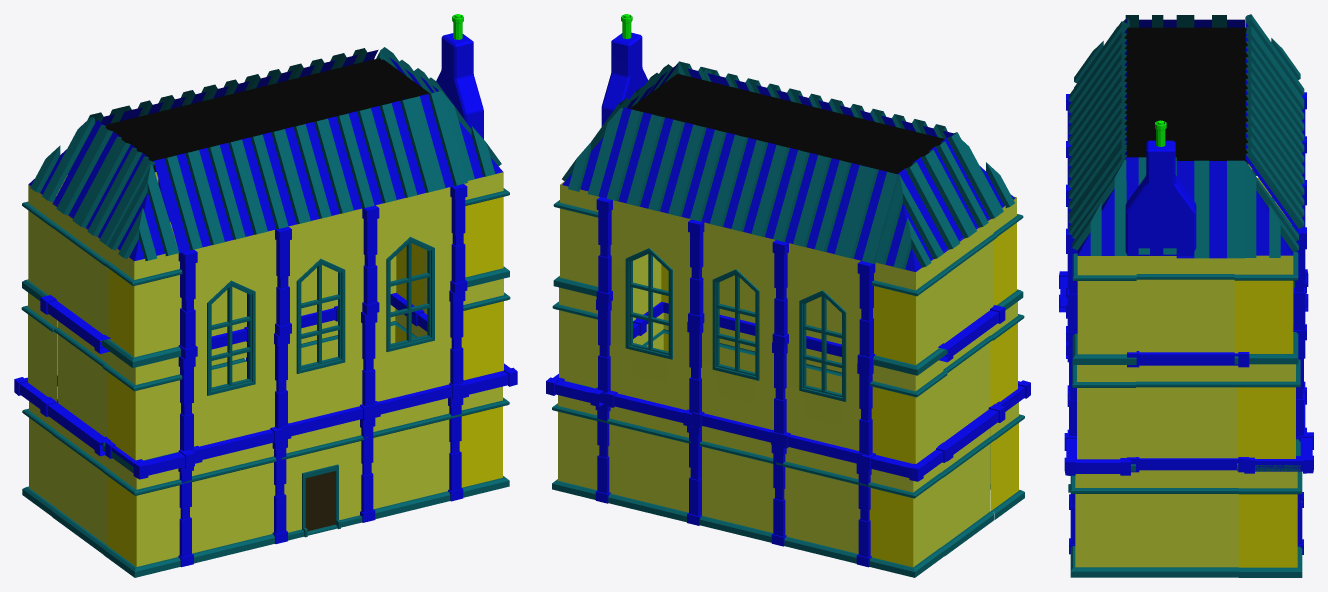
Rendered from Building_1_Marsh_Jeremy.fbx.
The picture shows the model from 3 angles, left to right: view 1: azimuth 30°, elevation 25°; view 2: azimuth 150°, elevation 25°; view 3: azimuth 270°, elevation 25°; orthographic projection. The views are drawn at different scales.
Parts seen in each view (by area): view 1: pasted__wall_ground_15; view 2: pasted__wall_ground_15; view 3: pasted__wall_ground_15.
Part boxes in pixels (x1,y1,x2,y2): pasted__wall_ground_15: (14, 14, 517, 577); pasted__wall_ground_15: (546, 14, 1030, 577); pasted__wall_ground_15: (1059, 14, 1313, 577).
Bounding box in the file's own units: 39.01 × 42.35 × 21.64.
